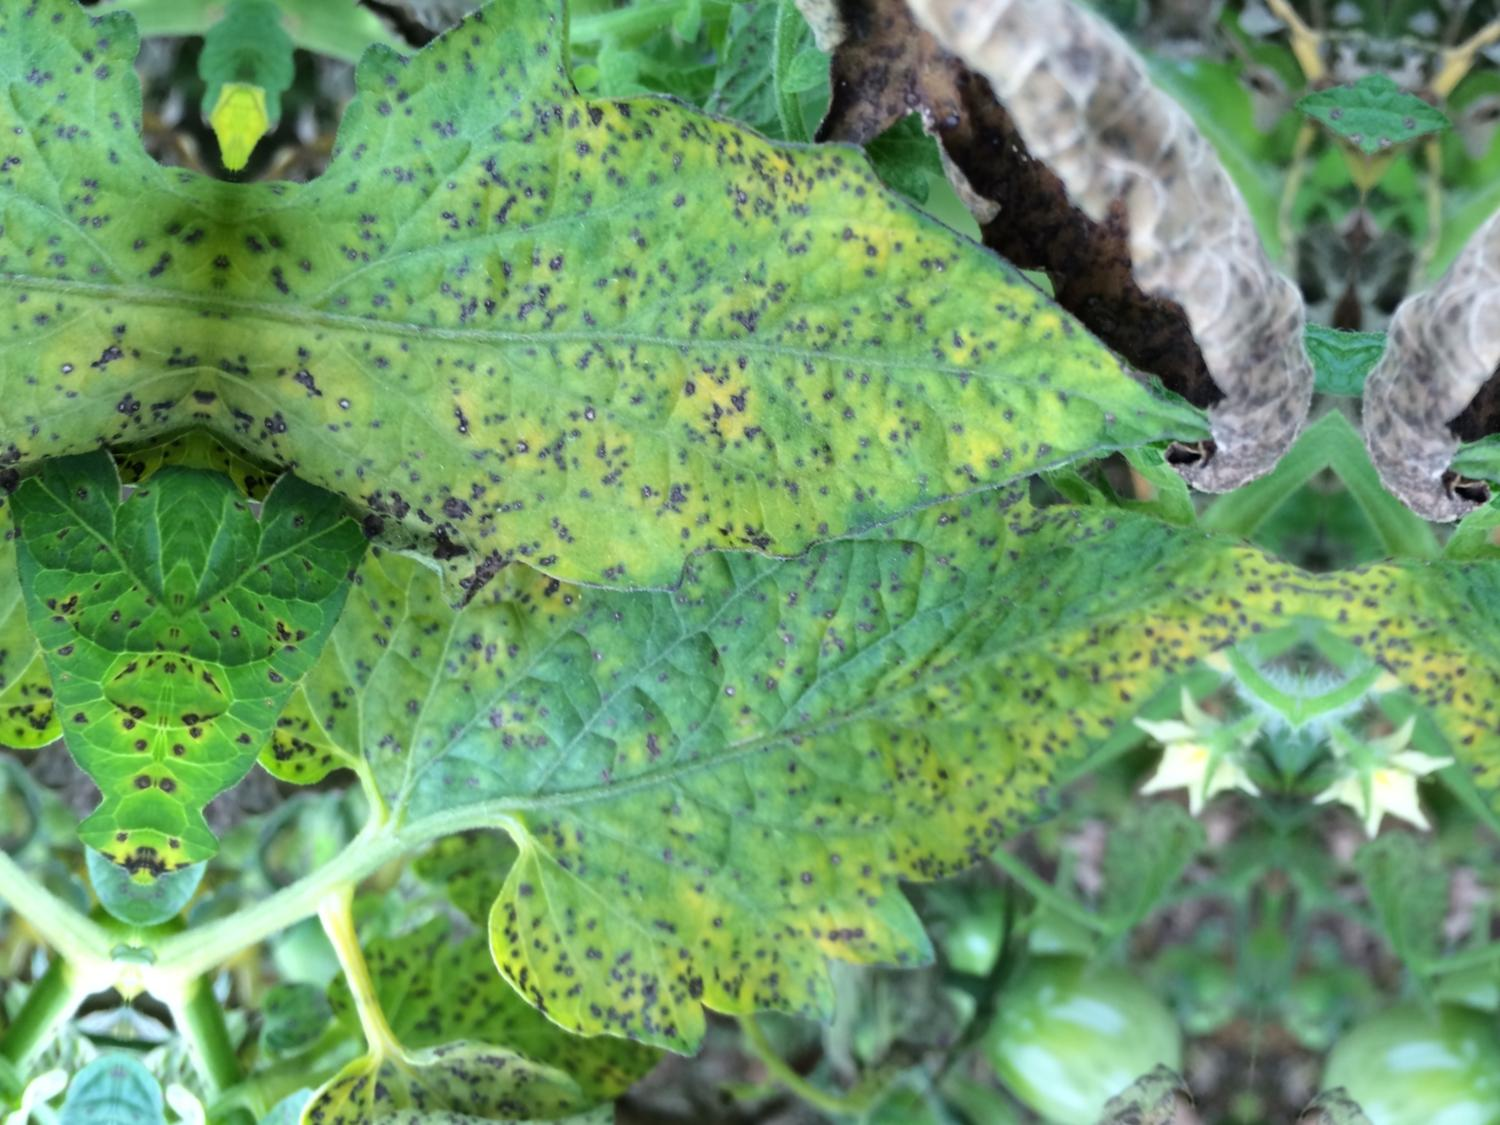Tomato Septoria leaf spot: (262, 372, 1298, 1125), (196, 0, 1287, 668)
